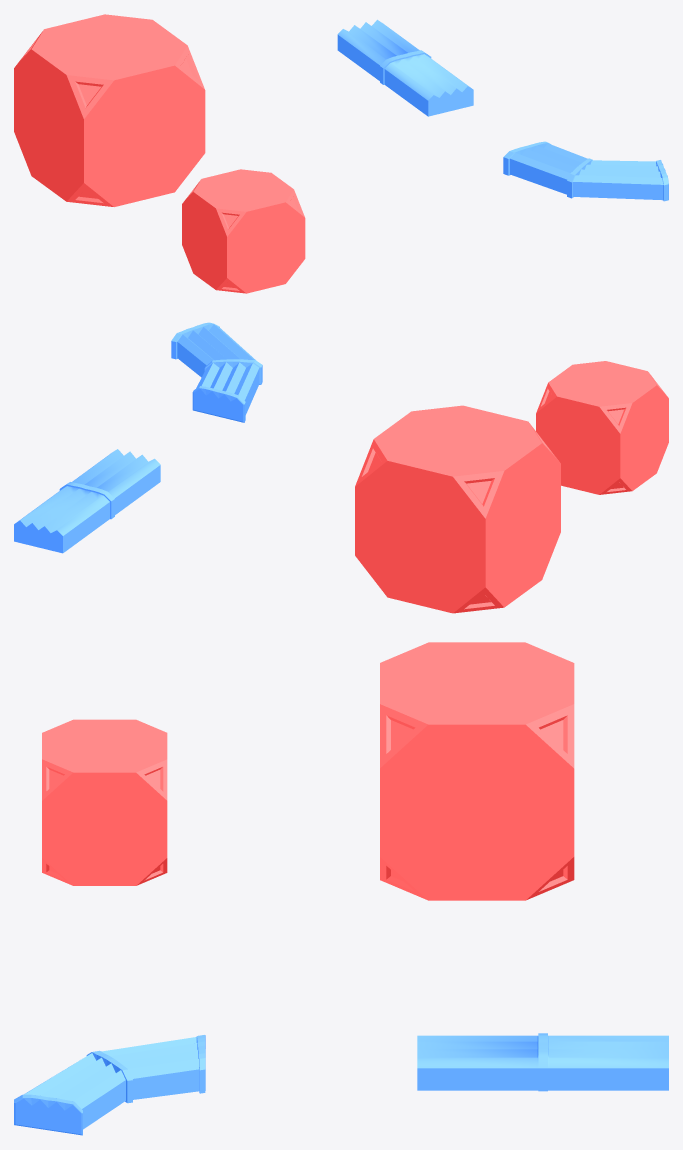
File: Objetos.FBX
3 views of the same model, one above another, from view 1: azimuth 30°, elevation 25°; view 2: azimuth 150°, elevation 25°; view 3: azimuth 270°, elevation 25° (orthographic). The views are drawn at different scales.
Visible parts, largest first — view 1: Box002, Box001, Box004, Box003; view 2: Box002, Box001, Box004, Box003; view 3: Box002, Box001, Box004, Box003.
Boxes of the visible parts, x1,y1,x2,y2 form: Box002: [14, 14, 205, 206]; Box001: [182, 169, 305, 293]; Box004: [337, 19, 473, 116]; Box003: [503, 141, 668, 201]; Box002: [355, 405, 560, 613]; Box001: [536, 361, 668, 494]; Box004: [14, 449, 160, 553]; Box003: [171, 322, 262, 422]; Box002: [380, 642, 574, 900]; Box001: [42, 719, 167, 885]; Box004: [417, 1033, 668, 1091]; Box003: [14, 1035, 205, 1135].
Size of the model in its own units: 59.95 by 15.54 by 52.29.
